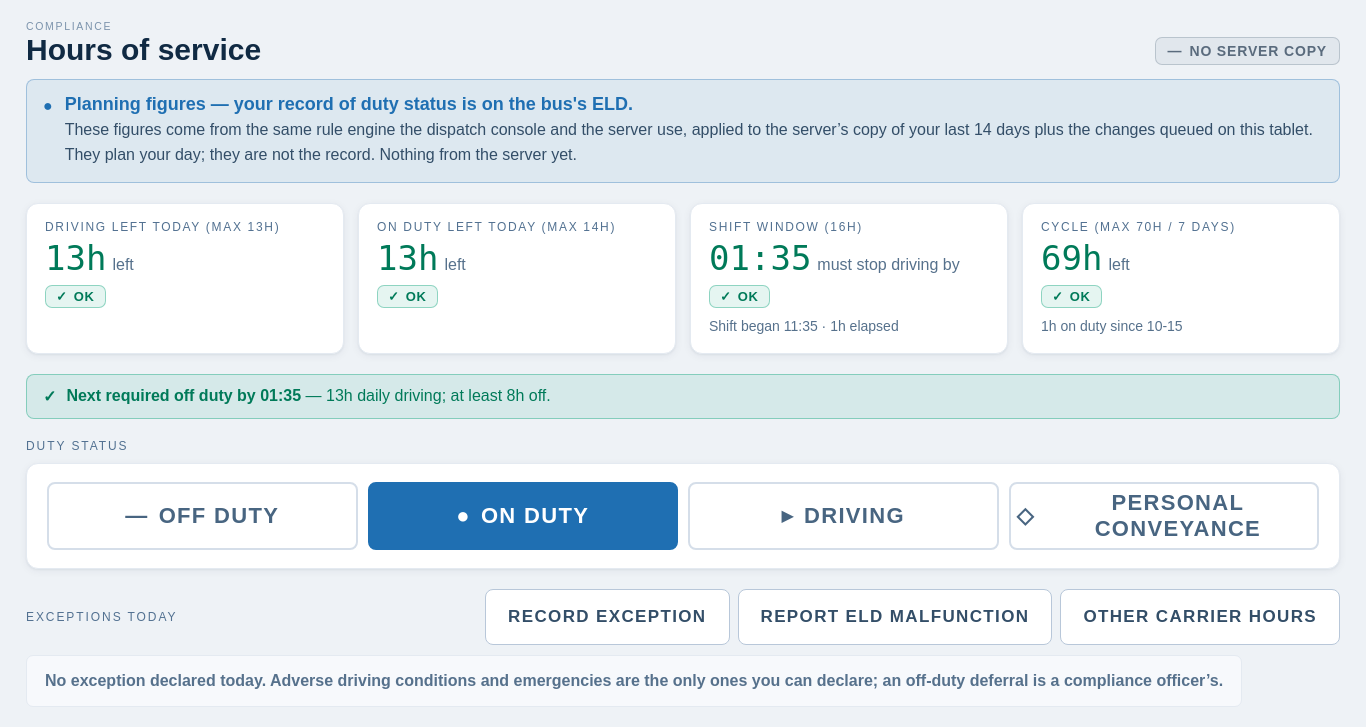
it: ELD malfunction › queues hos.eld-malfunction from the sheet, and the paper-log line shows at once
The image size is (1366, 727).
Click the button "Report ELD malfunction".
click(895, 617)  # box [738, 589, 1052, 645]
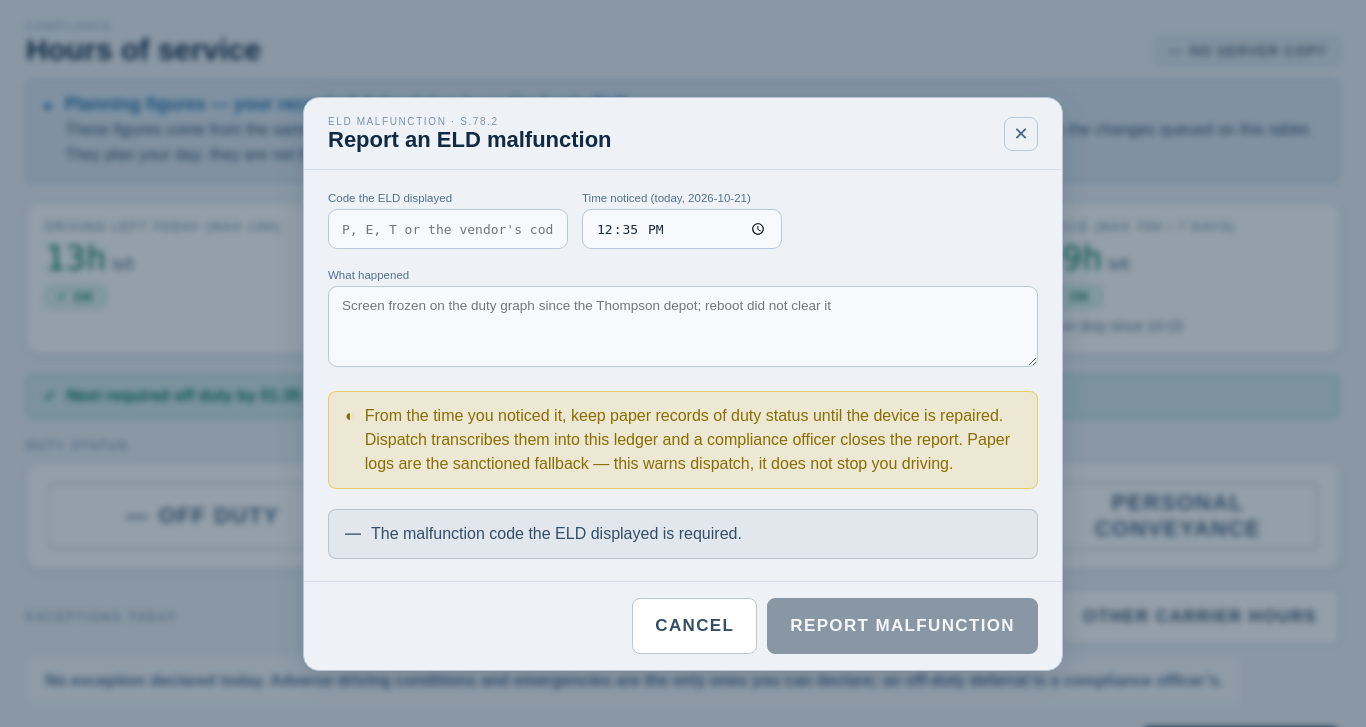
Expected: the button "Report malfunction" is disabled, [767, 598, 1038, 654]
Type "P" into the field with placeholder "P, E, T or the vendor's code".
click(448, 229); type("P")  # box [328, 209, 568, 249]
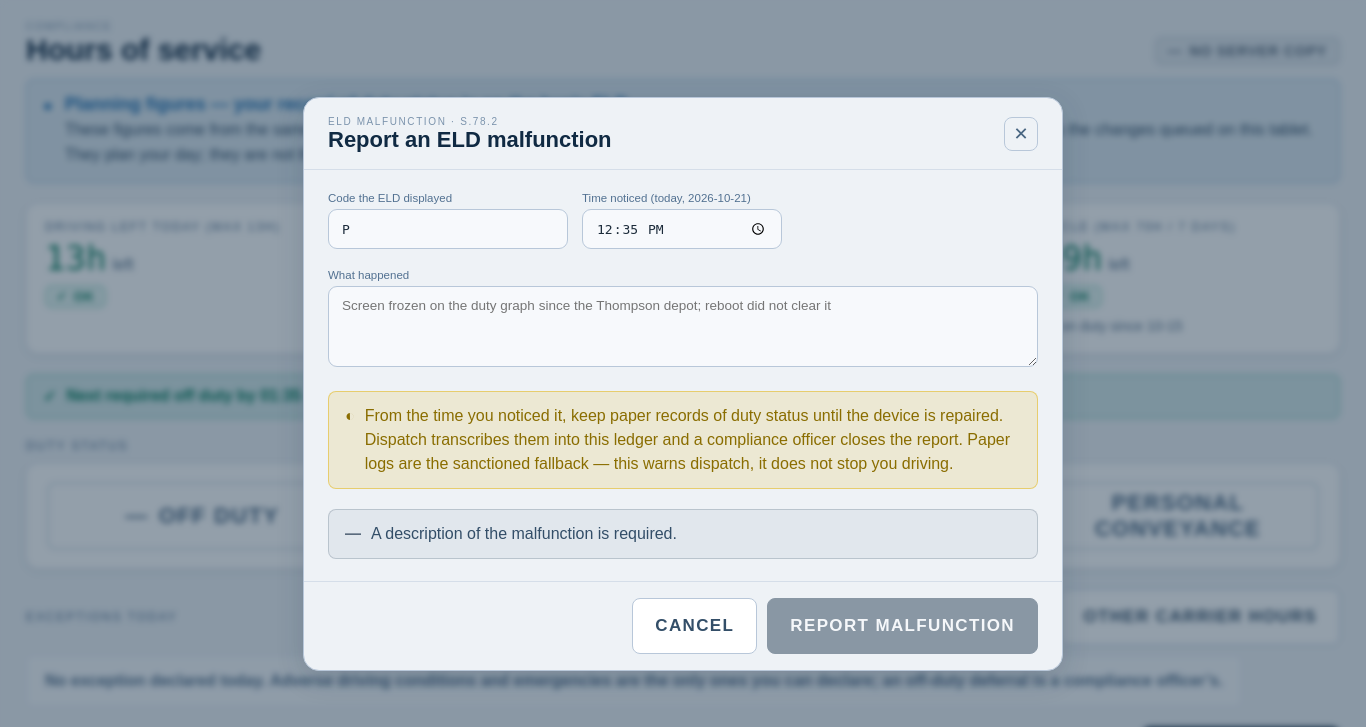
Expected: the button "Report malfunction" is disabled, [767, 598, 1038, 654]
Expected: the text "A description of the malfunction is required." is shown, [371, 522, 677, 546]
Replace the text in the text box with "Screen frozen since the depot" at (683, 326), box [328, 286, 1038, 367]
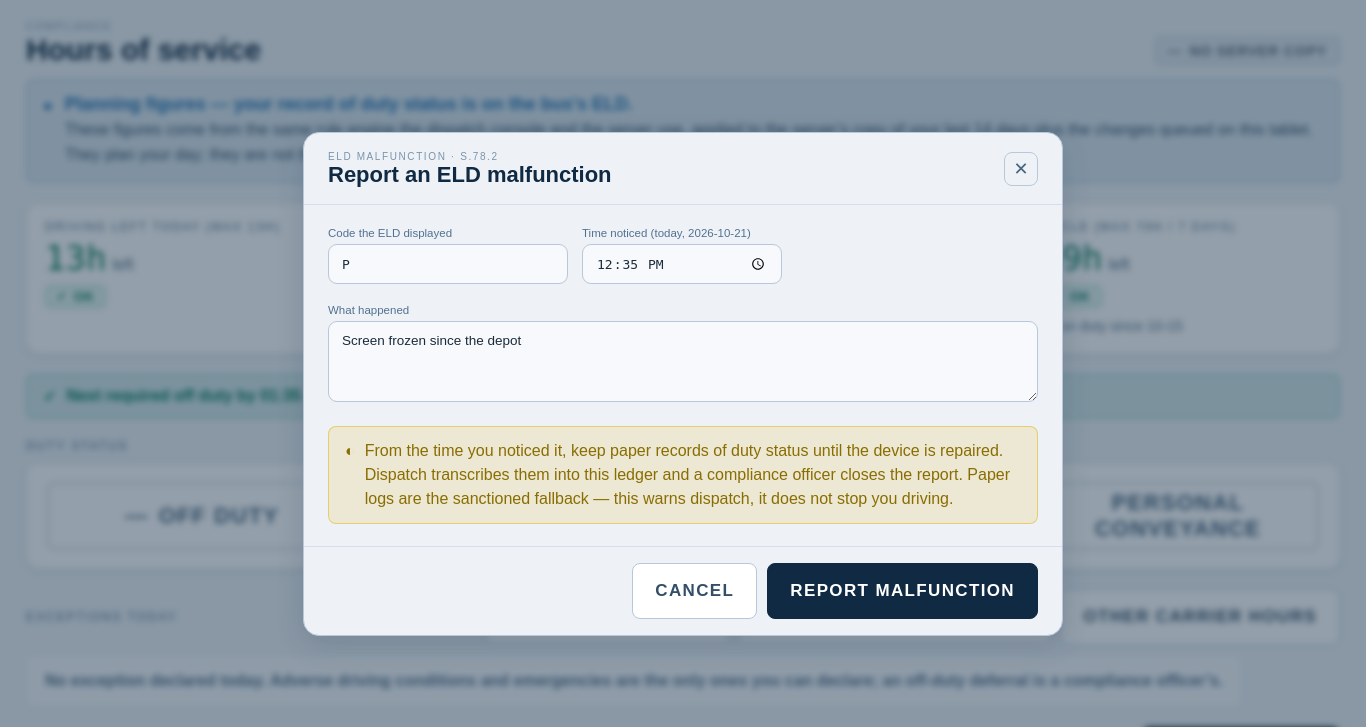
Expected: the button "Report malfunction" is enabled
Click the button "Report malfunction".
click(903, 591)  # box [767, 563, 1038, 619]
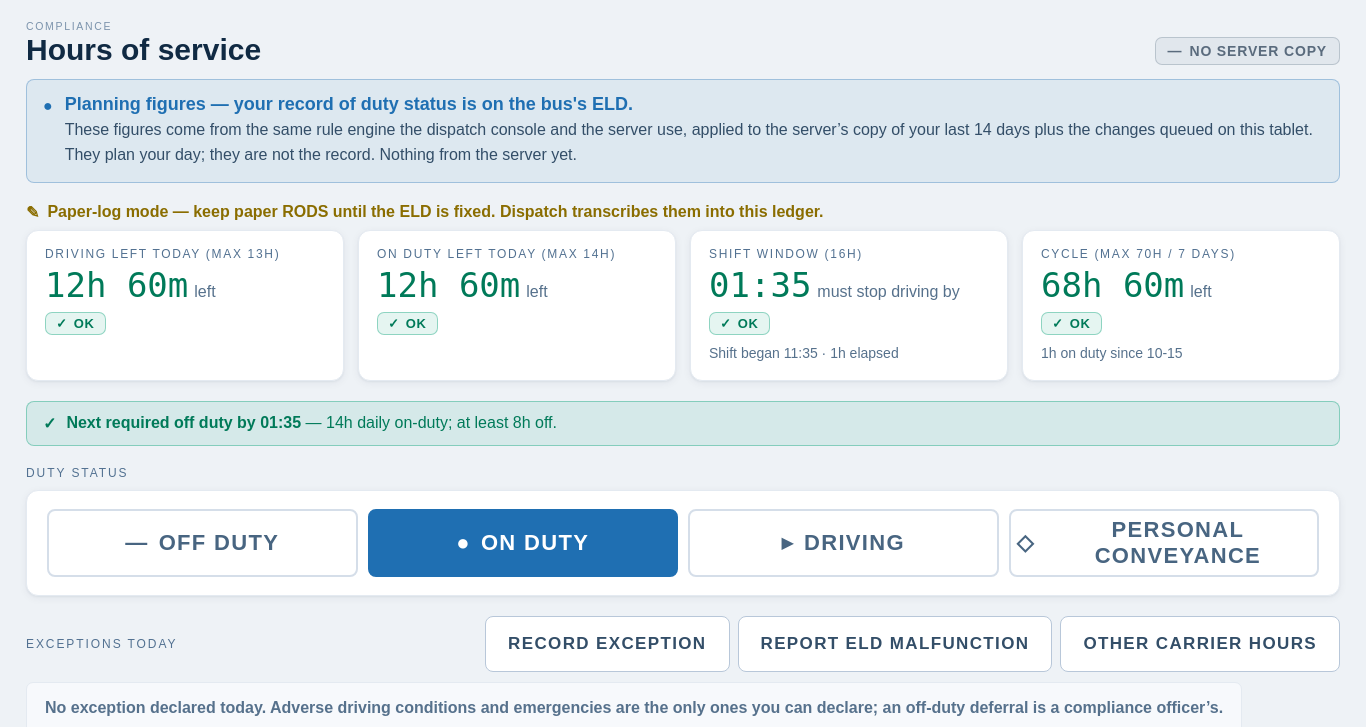
Expected: the text "Paper-log mode — keep paper RODS until the ELD is fixed. Dispatch transcribes them into this ledger." is shown, [47, 203, 824, 220]
